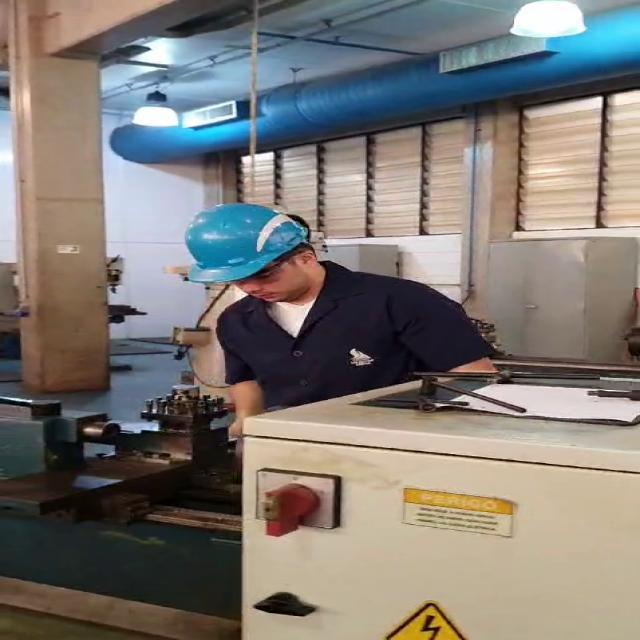oculos-epi: (232, 253, 309, 286)
